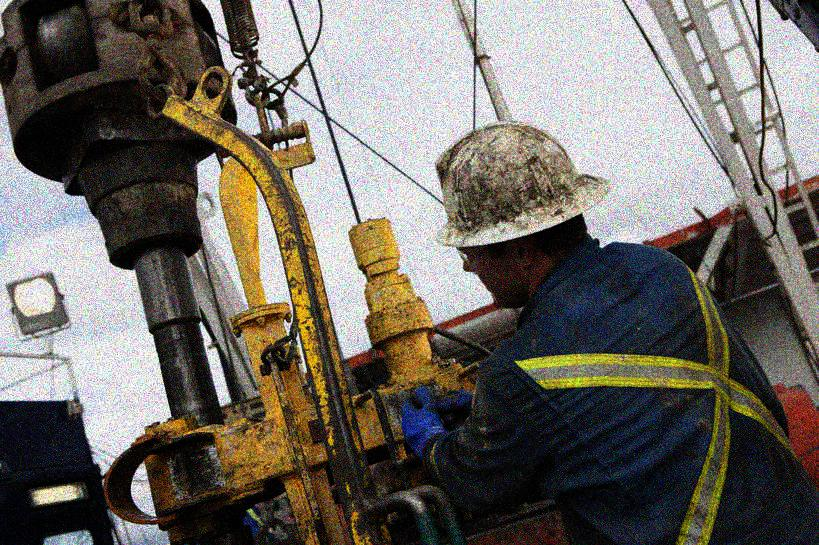helmet: (435, 123, 610, 307)
